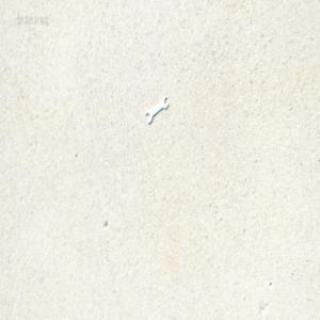Wrenchtrack_idkeyframe: (144, 94, 168, 124)
